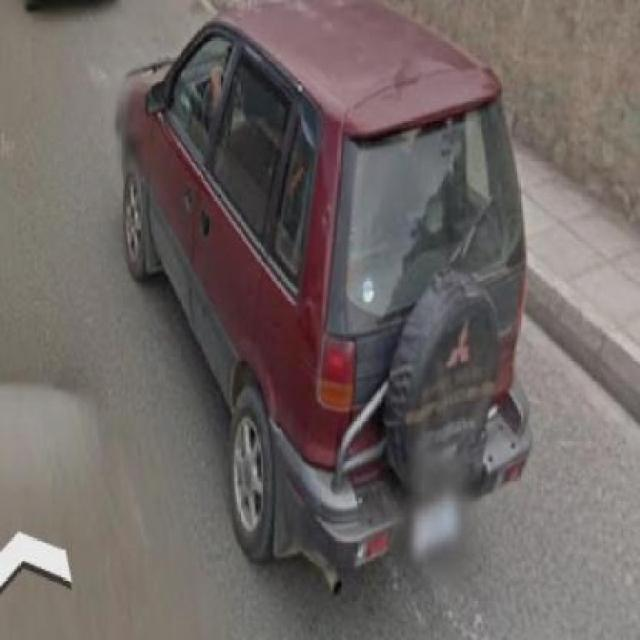car: (99, 3, 533, 574)
